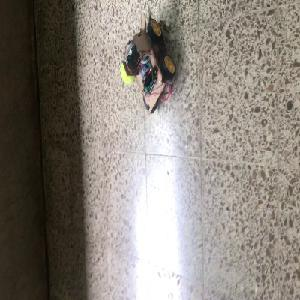Ball: (120, 63, 132, 83)
Robot: (122, 19, 176, 114)
